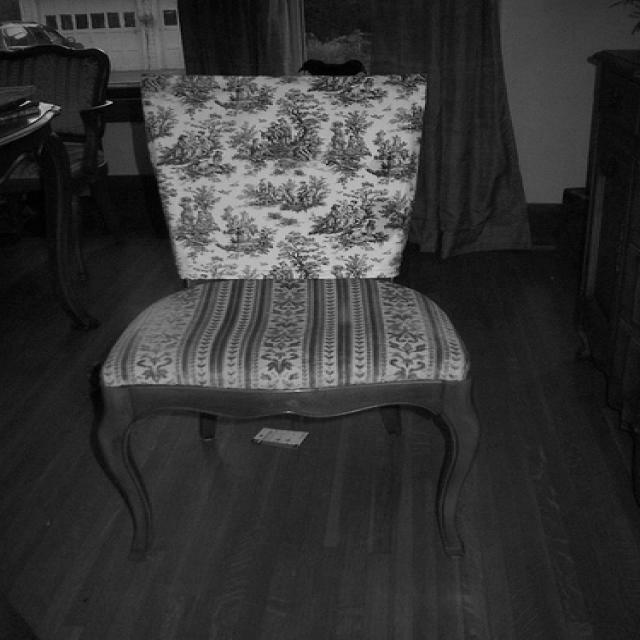chair: (92, 70, 484, 566)
